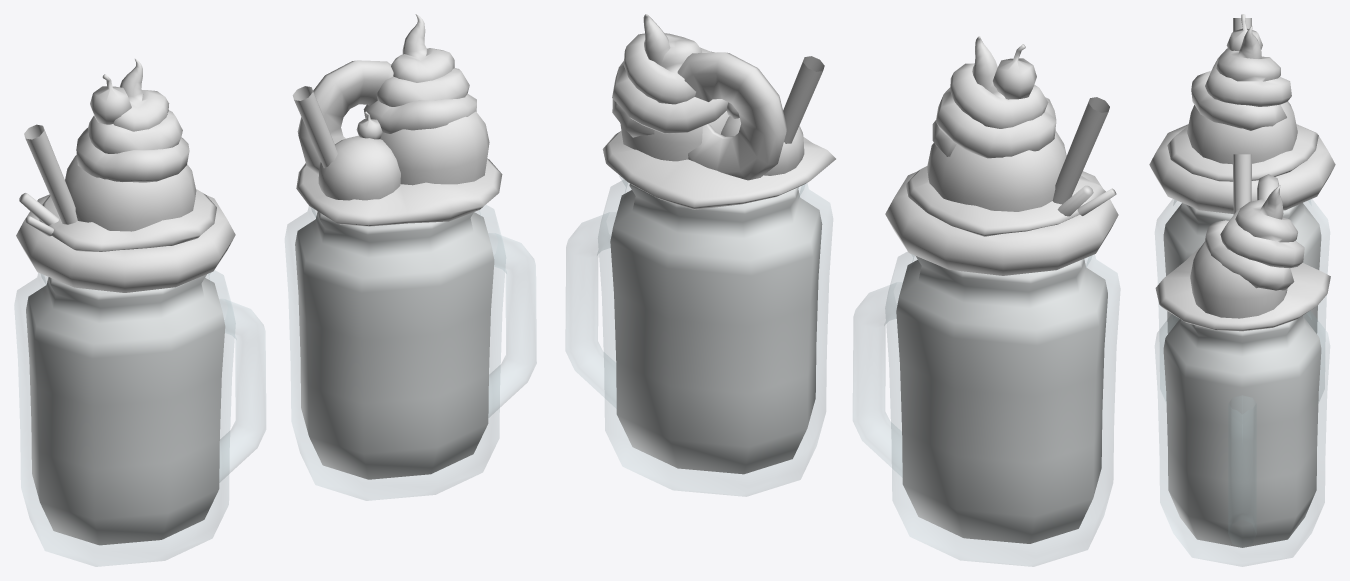
File: freakyshakes.fbx
The picture shows the model from 3 angles, left to right: view 1: azimuth 30°, elevation 25°; view 2: azimuth 150°, elevation 25°; view 3: azimuth 270°, elevation 25°; orthographic projection. The views are drawn at different scales.
Visible parts, largest first — view 1: freak, freak2, top, top2, mug, mug2; view 2: freak, freak2, top, top2, mug, mug2; view 3: freak2, top, top2, mug2, freak, mug.
Part boxes in pixels (left/top/right/bottom): freak: left=26, top=274, right=225, bottom=545; freak2: left=295, top=211, right=494, bottom=479; top: left=16, top=59, right=235, bottom=292; top2: left=292, top=14, right=502, bottom=226; mug: left=14, top=270, right=265, bottom=566; mug2: left=285, top=205, right=536, bottom=500; freak: left=896, top=256, right=1107, bottom=543; freak2: left=610, top=183, right=822, bottom=474; top: left=885, top=36, right=1118, bottom=275; top2: left=602, top=14, right=835, bottom=209; mug: left=853, top=252, right=1120, bottom=566; mug2: left=565, top=175, right=832, bottom=496; freak2: left=1163, top=316, right=1321, bottom=547; top: left=1149, top=14, right=1335, bottom=213; top2: left=1155, top=154, right=1330, bottom=331; mug2: left=1155, top=311, right=1329, bottom=566; freak: left=1163, top=203, right=1321, bottom=333; mug: left=1155, top=199, right=1329, bottom=400.
Size of the model in its own units: 499 by 444 by 182.
